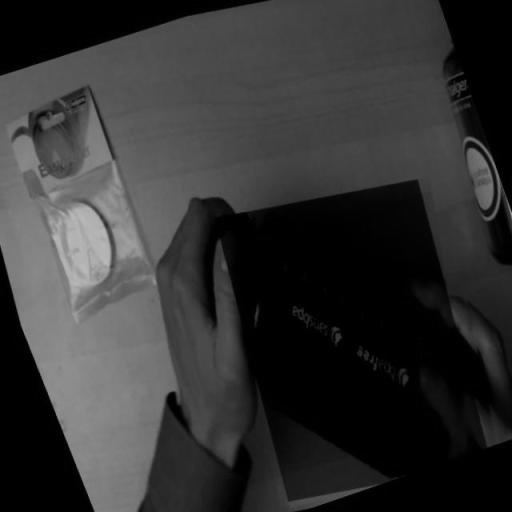bottle: (197, 157, 490, 512)
